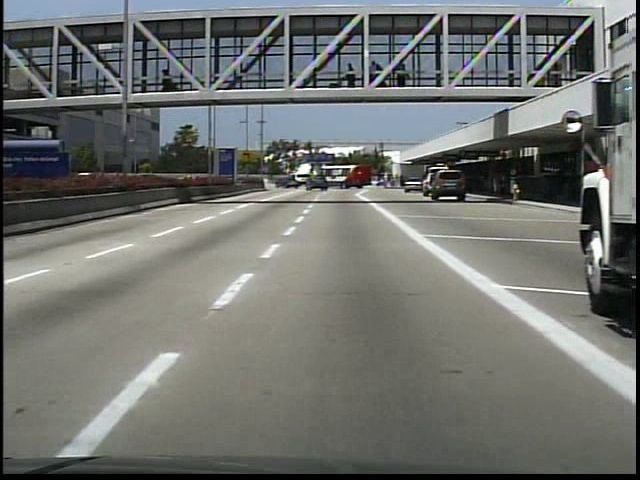person: (342, 59, 360, 92), (488, 169, 505, 200), (160, 66, 178, 94)
